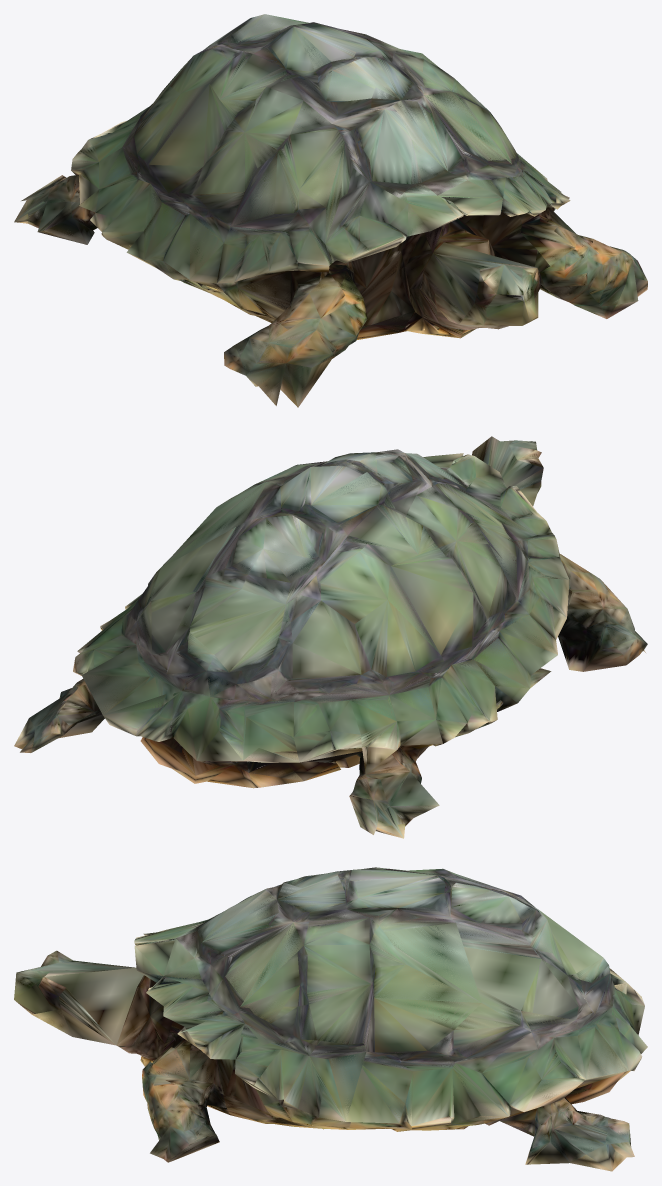
File: schildkroete.glb
3 renders of one model, top to bottom at view 1: azimuth 30°, elevation 25°; view 2: azimuth 150°, elevation 25°; view 3: azimuth 270°, elevation 25°, orthographic. The views are drawn at different scales.
Size of the model in its own units: 1.32 by 0.7265 by 1.92.
Materials: 1 (1 with a texture image).
